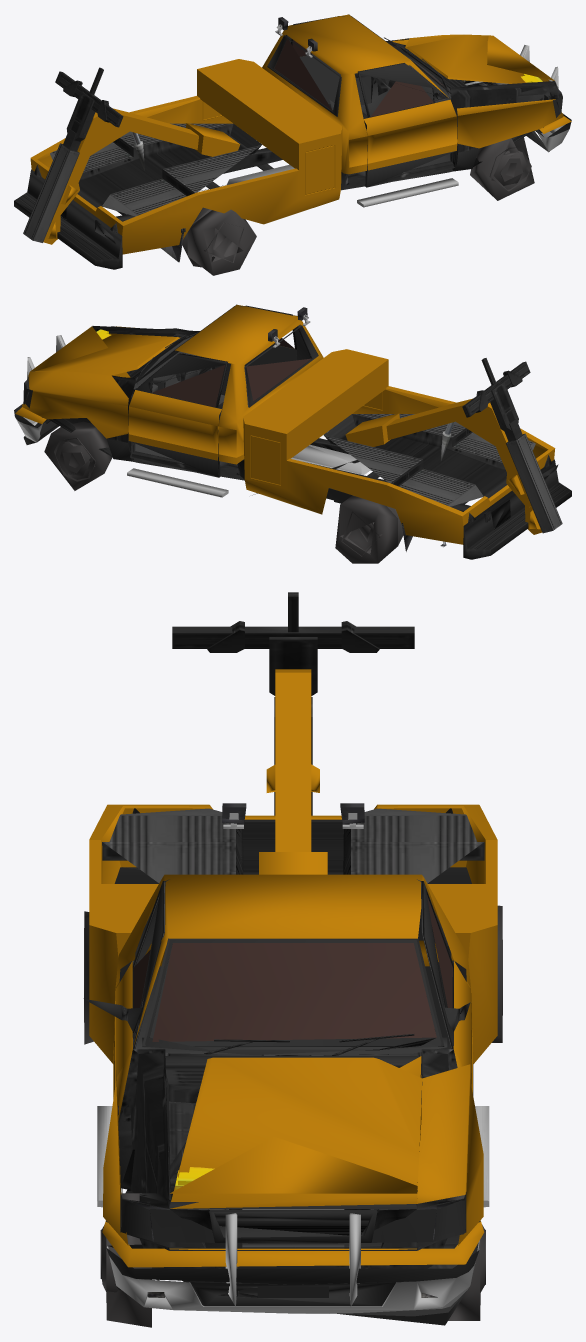
The model's file is tow-truck.lod0.glb.
The picture shows the model from 3 angles, top to bottom: view 1: azimuth 30°, elevation 25°; view 2: azimuth 150°, elevation 25°; view 3: azimuth 270°, elevation 25°; orthographic projection. The views are drawn at different scales.
Visible parts, largest first — view 1: UTLTRUCK90_Bumper_Front_UTLTRUCK90_Bodymat_0, UTLTRUCK90_bottom_UCB_BOTTOM_0; view 2: UTLTRUCK90_Bumper_Front_UTLTRUCK90_Bodymat_0, UTLTRUCK90_bottom_UCB_BOTTOM_0; view 3: UTLTRUCK90_Bumper_Front_UTLTRUCK90_Bodymat_0, UTLTRUCK90_bottom_UCB_BOTTOM_0.
Part boxes in pixels (<box>): UTLTRUCK90_Bumper_Front_UTLTRUCK90_Bodymat_0: <box>30,14,571,275</box>; UTLTRUCK90_bottom_UCB_BOTTOM_0: <box>14,14,571,269</box>; UTLTRUCK90_Bumper_Front_UTLTRUCK90_Bodymat_0: <box>15,304,555,563</box>; UTLTRUCK90_bottom_UCB_BOTTOM_0: <box>14,304,571,559</box>; UTLTRUCK90_Bumper_Front_UTLTRUCK90_Bodymat_0: <box>84,669,502,1327</box>; UTLTRUCK90_bottom_UCB_BOTTOM_0: <box>83,592,489,1325</box>.
Size of the model in its own units: 5.64 by 1.96 by 1.98.
2 materials, 1 textured.
